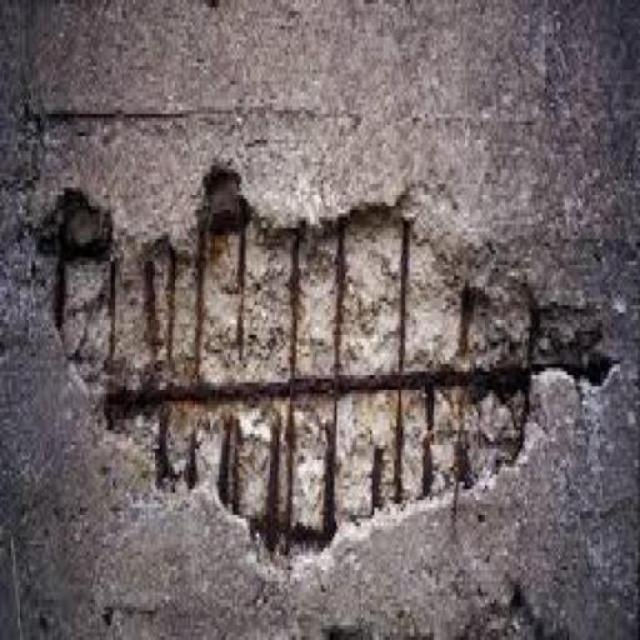D0w0: (10, 174, 625, 572)
